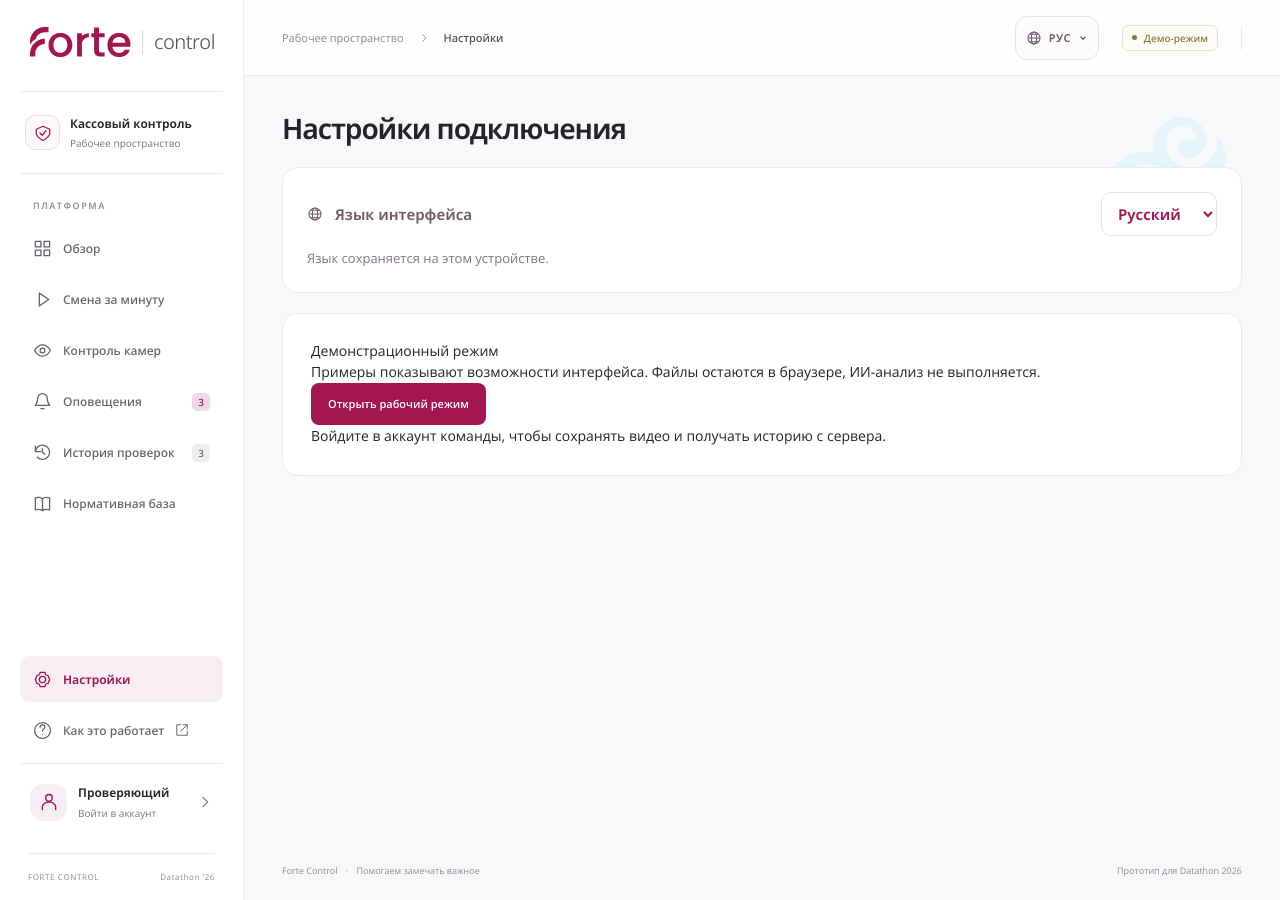
Test: working mode requires login but no ML API key
Click the button "Открыть рабочий режим" at (398, 404), box [311,383,486,425]
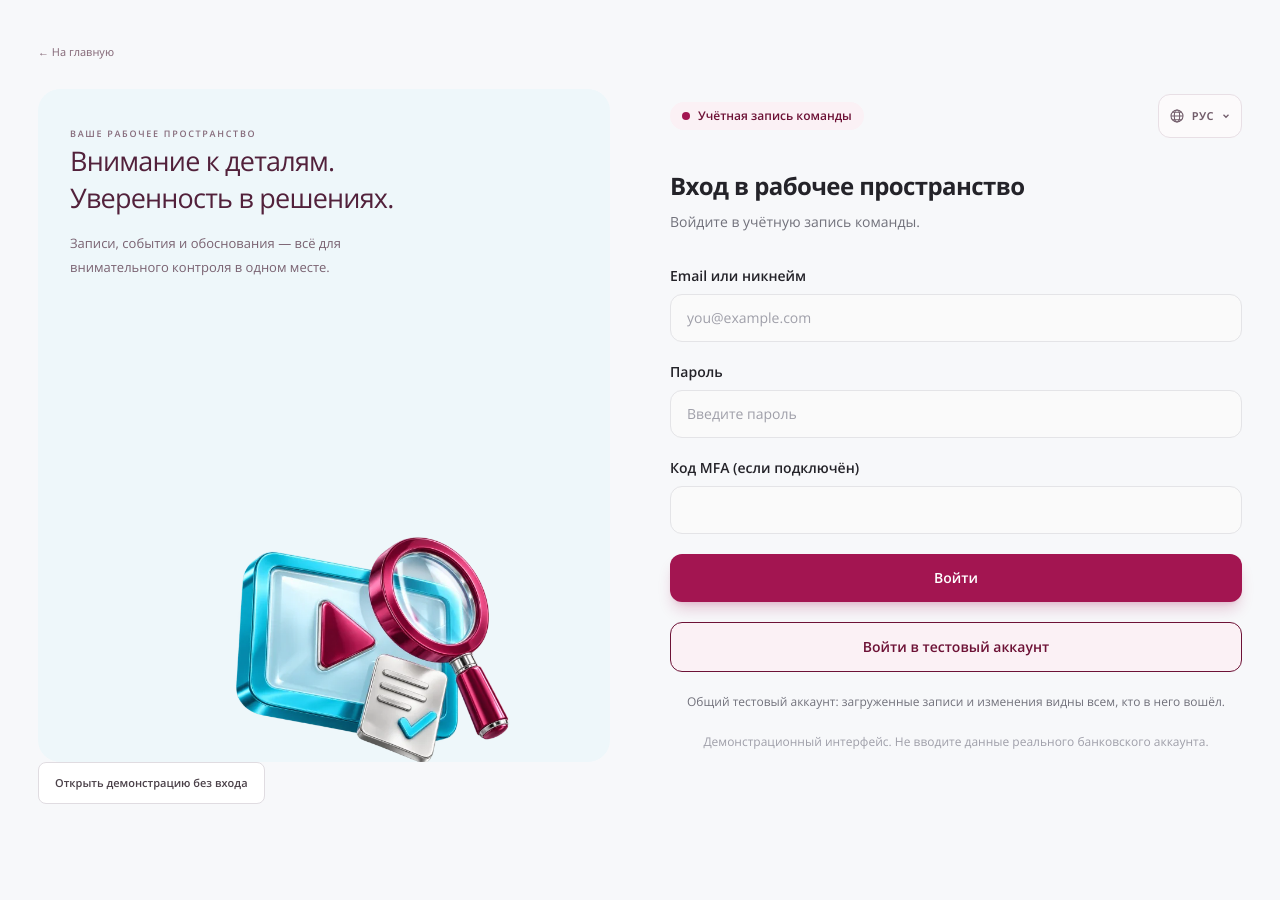
Now the heading "Вход в рабочее пространство" is shown, box [670,169,1024,202]
